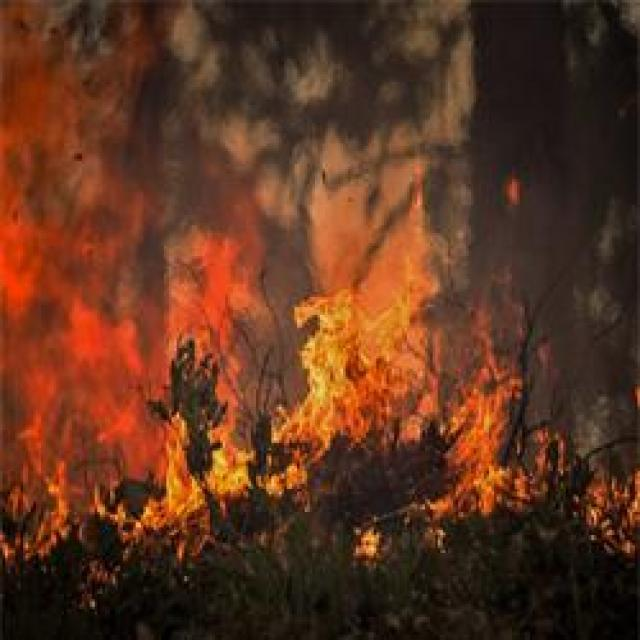fire: (292, 291, 422, 428), (156, 436, 257, 508)
smoke: (443, 0, 637, 315), (190, 8, 465, 156), (6, 0, 228, 172)
